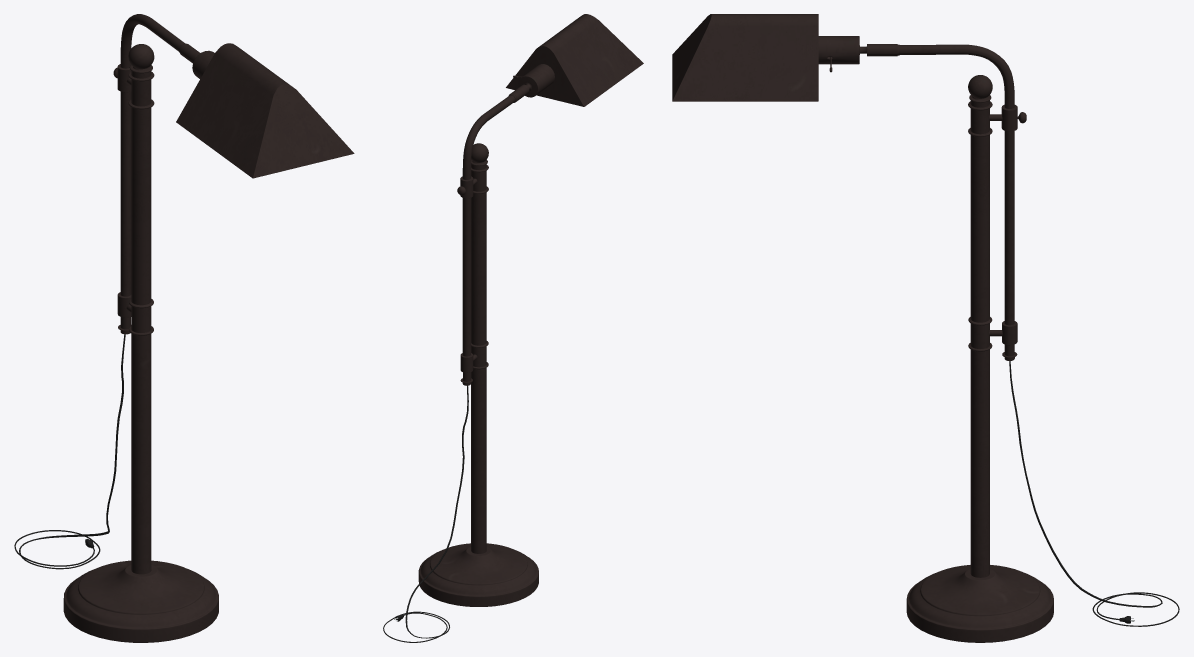
Rendered from lamp_B07DBK7NFM.glb.
3 views of the same model, side by side, from view 1: azimuth 30°, elevation 25°; view 2: azimuth 150°, elevation 25°; view 3: azimuth 270°, elevation 25° (orthographic). The views are drawn at different scales.
Parts seen in each view (by area): view 1: RootNode; view 2: RootNode; view 3: RootNode.
Part boxes in pixels (x1,y1,x2,y2): RootNode: [14, 14, 354, 642]; RootNode: [383, 14, 643, 642]; RootNode: [672, 14, 1179, 642].
Size of the model in its own units: 0.1586 by 0.7079 by 0.5452.
Materials: 1 (1 with a texture image).
